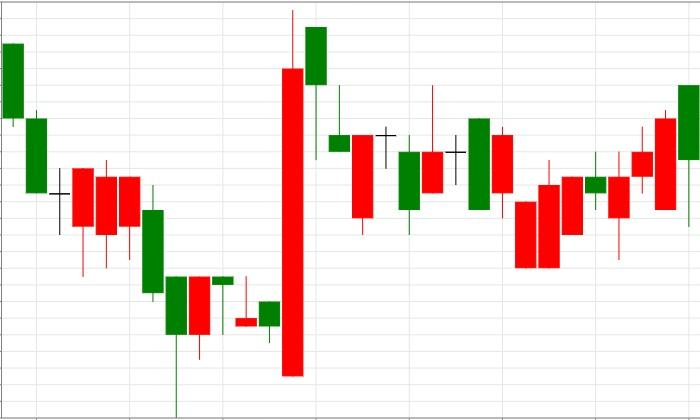bullish_engulfing_rise: (2, 9, 304, 418)
